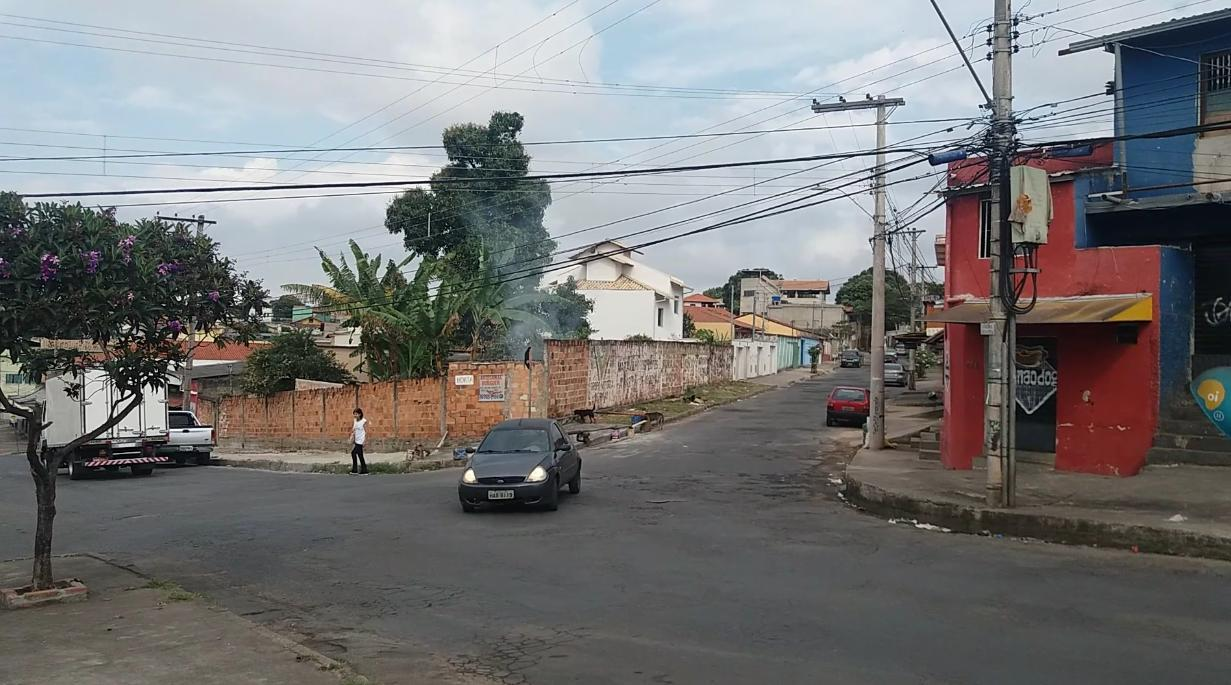Smoke: (481, 187, 560, 373)
